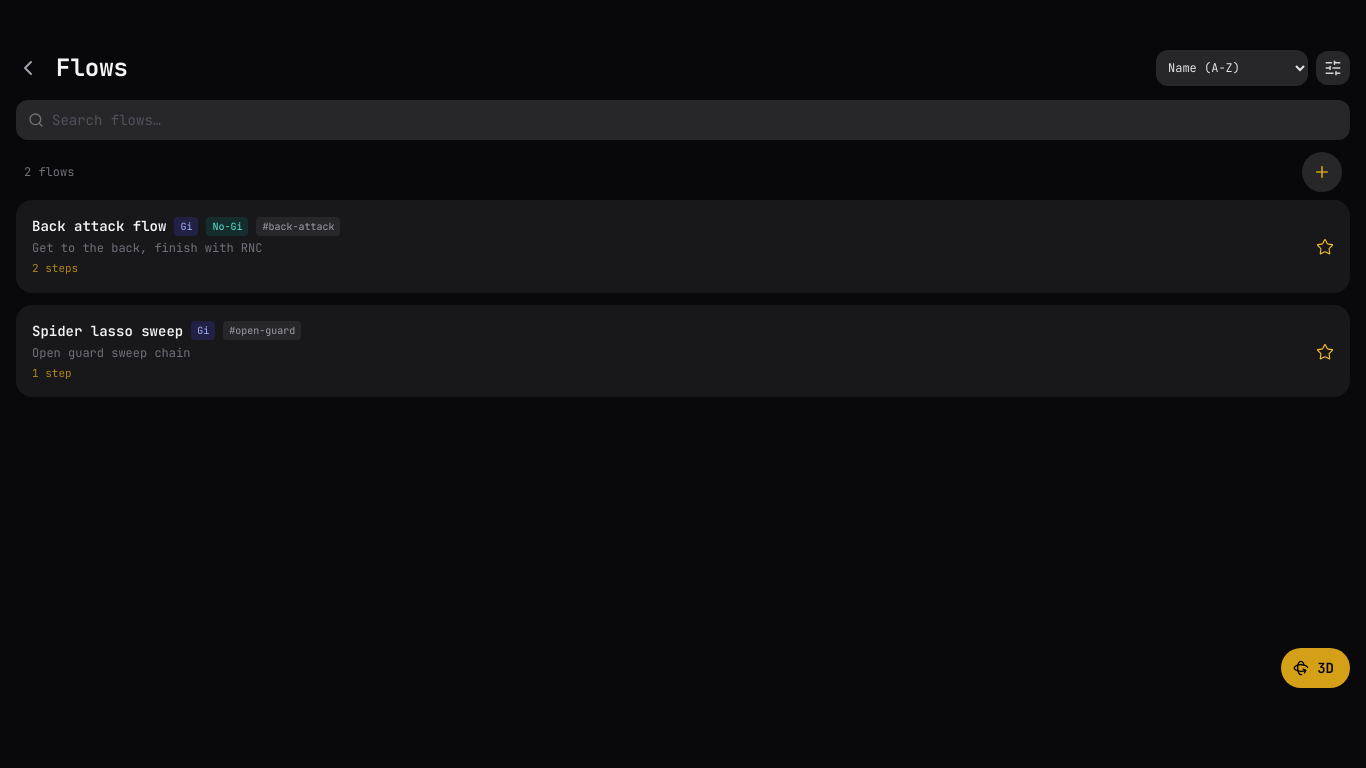
Test case: FlowsPage › filters flows by gi/no-gi format
Click the button named "Filter" at [1333, 68], box [1316, 51, 1350, 85]
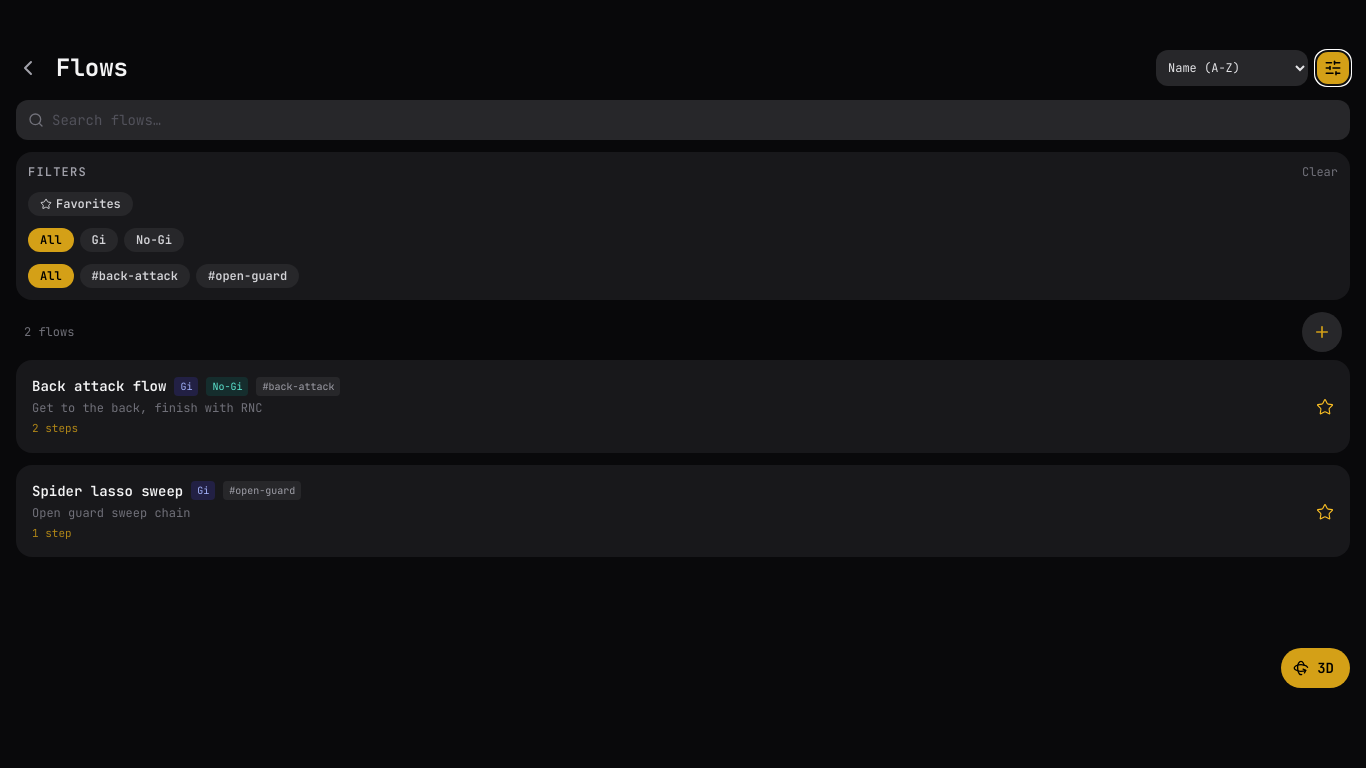
Click the button "No-Gi" at [154, 240], box [124, 228, 184, 252]
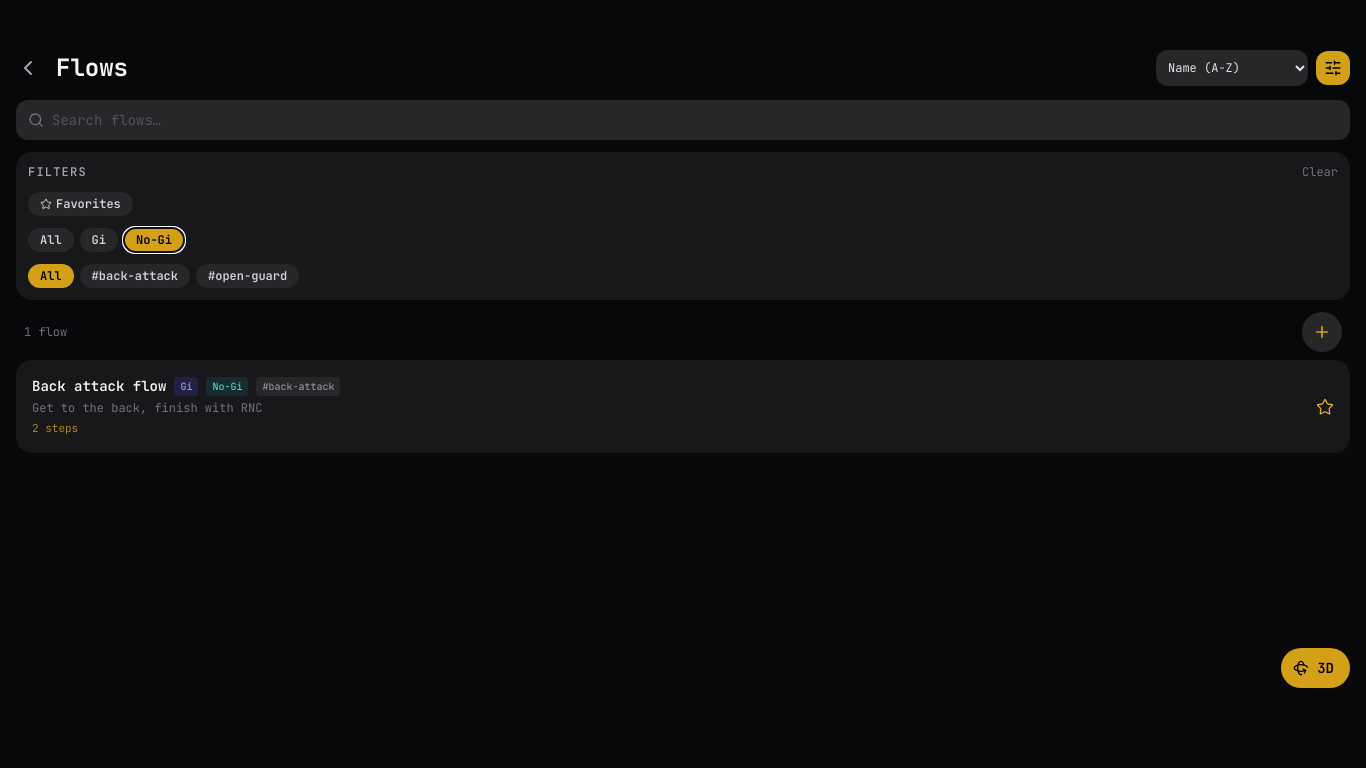
Expected: the text "Back attack flow" is shown, [32, 376, 166, 396]
Expected: the button "Spider lasso sweep" is gone
